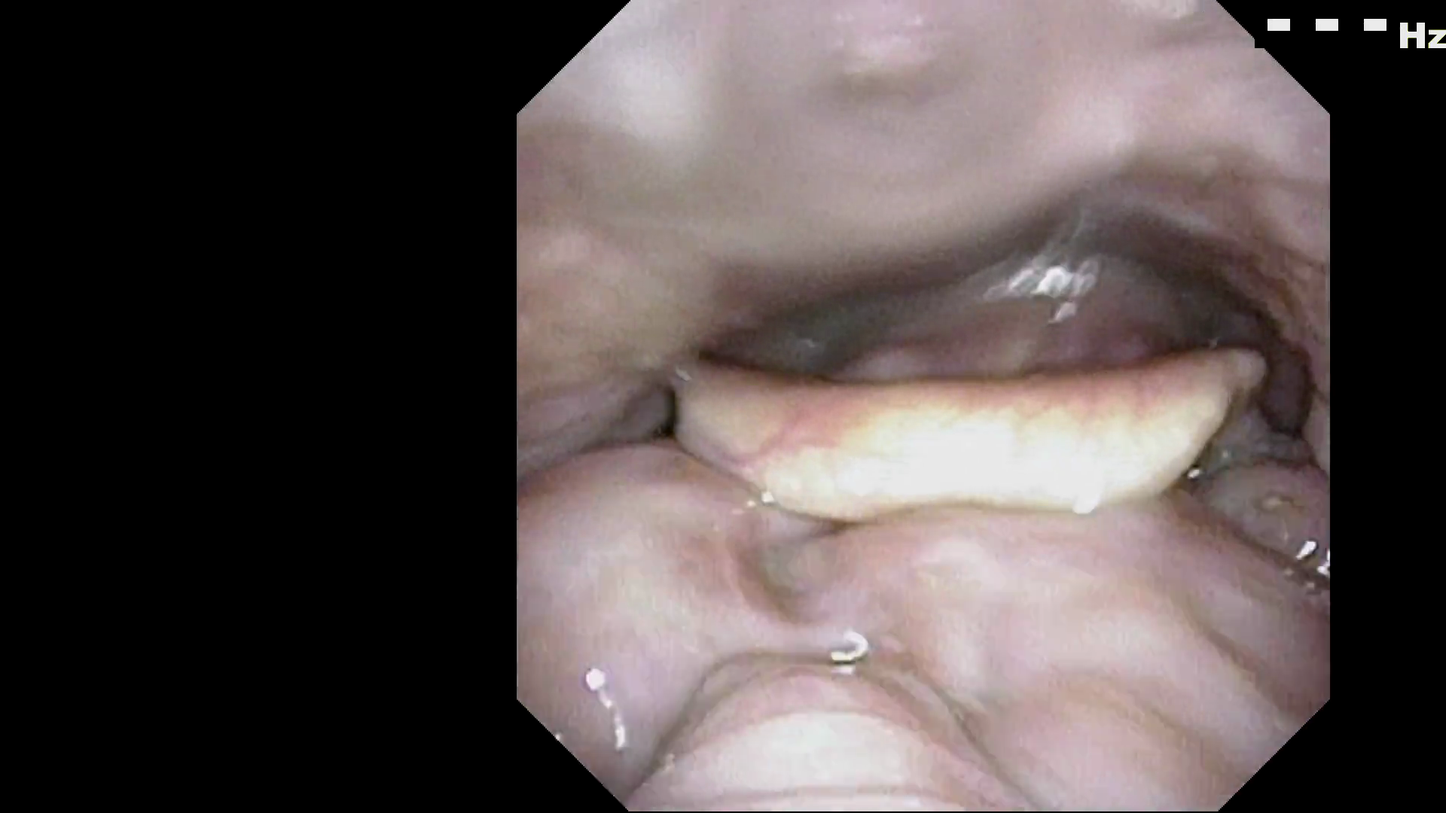epiglottis: (672, 370, 1282, 553)
trachea: (935, 386, 1089, 467)
